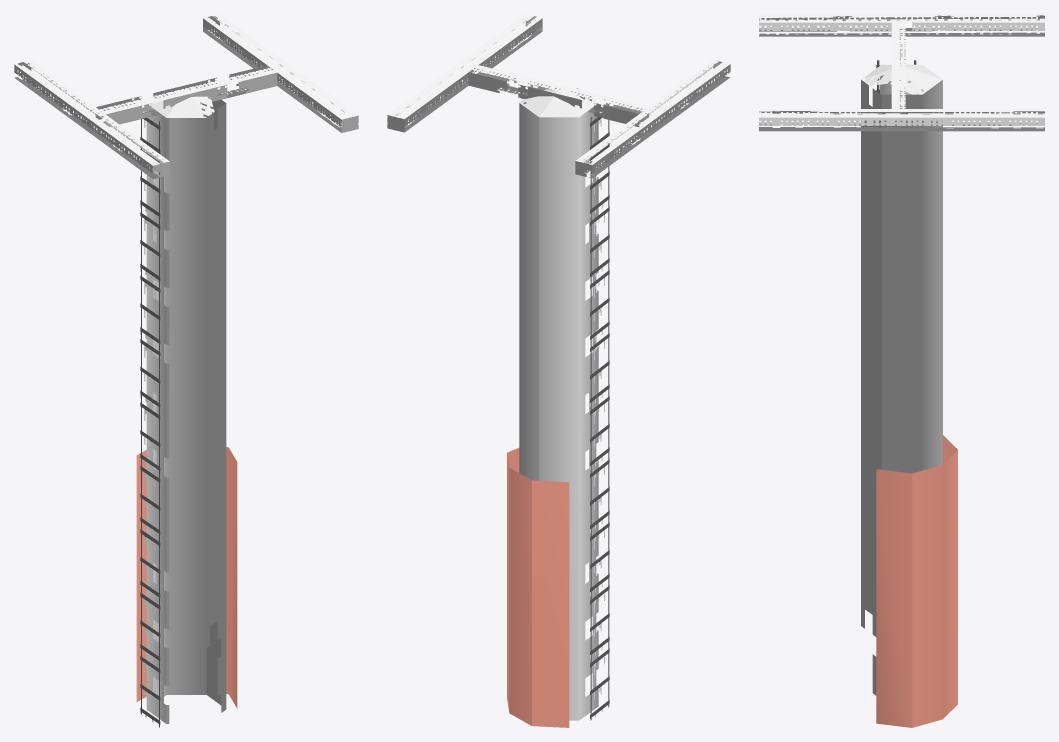
File: uvmd-0202.glb
The picture shows the model from 3 angles, left to right: view 1: azimuth 30°, elevation 25°; view 2: azimuth 150°, elevation 25°; view 3: azimuth 270°, elevation 25°; orthographic projection. The views are drawn at different scales.
Visible parts, largest first — view 1: uvmd-0202; view 2: uvmd-0202; view 3: uvmd-0202.
Boxes of the visible parts, left/top/right/bottom form: uvmd-0202: left=14, top=14, right=358, bottom=727; uvmd-0202: left=387, top=14, right=730, bottom=727; uvmd-0202: left=759, top=14, right=1044, bottom=727.
Bounding box in the file's own units: 48 × 138 × 56.
Materials: 3 (3 with a texture image).
